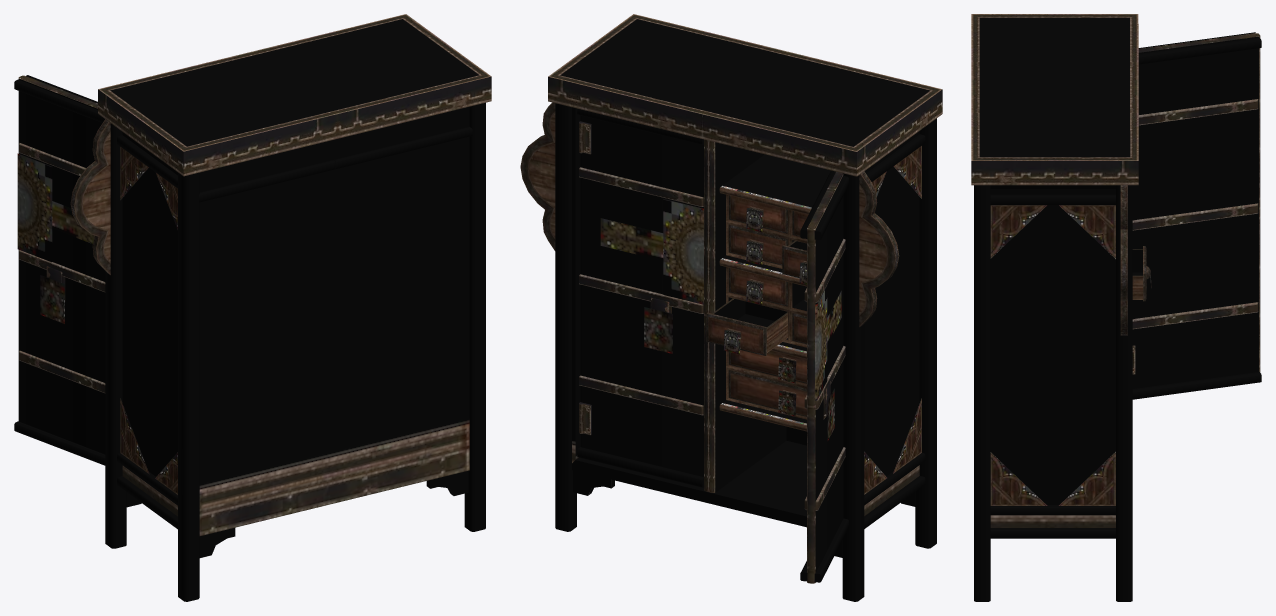
The model's file is o_mdl_env_propFurnitureCupboardB-transformed.glb.
3 renders of one model, left to right at view 1: azimuth 30°, elevation 25°; view 2: azimuth 150°, elevation 25°; view 3: azimuth 270°, elevation 25°, orthographic. The views are drawn at different scales.
Parts seen in each view (by area): view 1: default; view 2: default; view 3: default.
Part boxes in pixels (bbox=[...]): default: bbox=[14, 14, 491, 601]; default: bbox=[520, 14, 942, 601]; default: bbox=[971, 14, 1261, 601].
Size of the model in its own units: 2.16 by 2.49 by 1.48.
3 materials, 3 textured.
